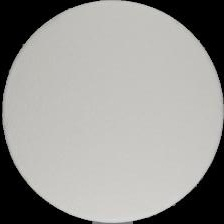43063-269: (0, 0, 224, 224)
